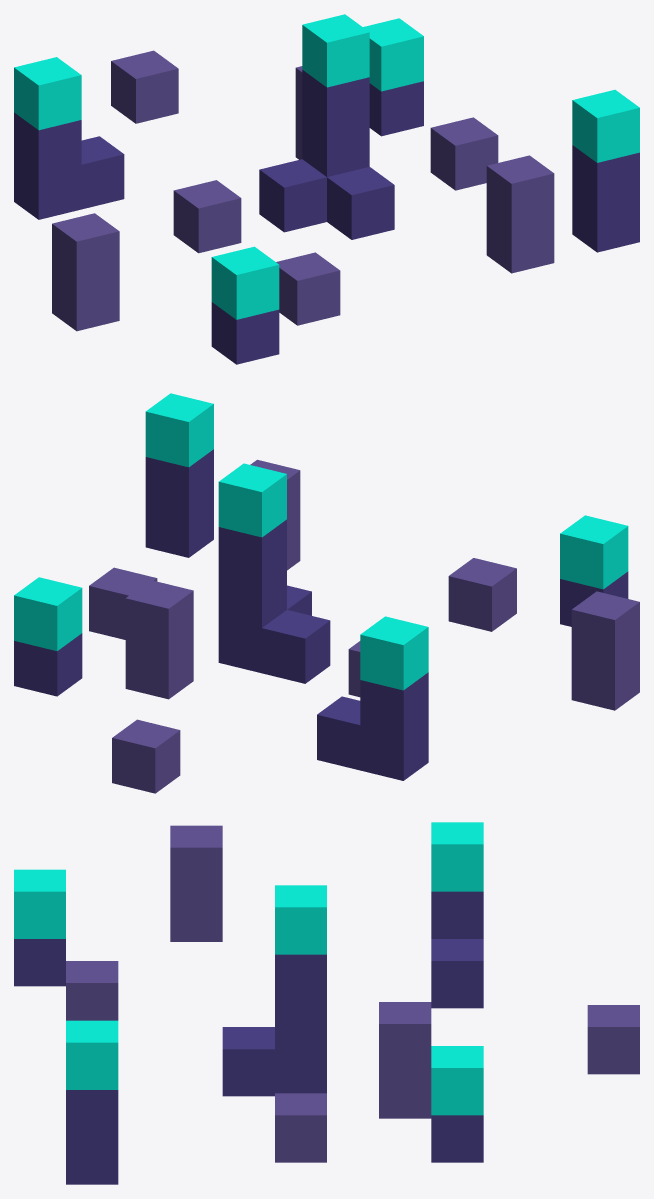
File: LunaFlower1.obj
3 renders of one model, top to bottom at view 1: azimuth 30°, elevation 25°; view 2: azimuth 150°, elevation 25°; view 3: azimuth 270°, elevation 25°, orthographic. The views are drawn at different scales.
Parts seen in each view (by area): view 1: LunaFlower1; view 2: LunaFlower1; view 3: LunaFlower1.
Part boxes in pixels (left/top/right/bottom): LunaFlower1: left=14, top=14, right=639, bottom=364; LunaFlower1: left=14, top=393, right=639, bottom=793; LunaFlower1: left=14, top=822, right=639, bottom=1184.
Size of the model in its own units: 12 by 4 by 12.
1 material, 1 textured.
